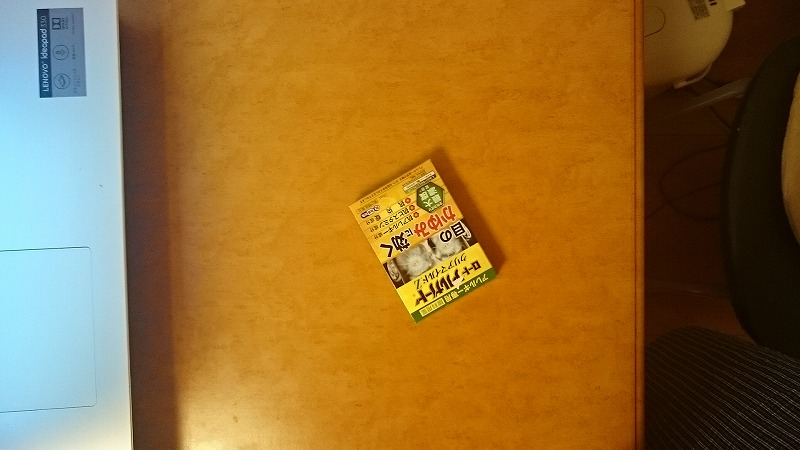C: (343, 148, 506, 331)
